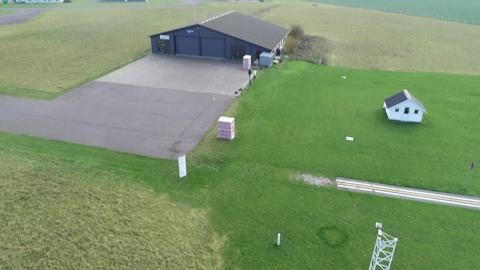RockwoolPallet: (218, 116, 236, 141)
